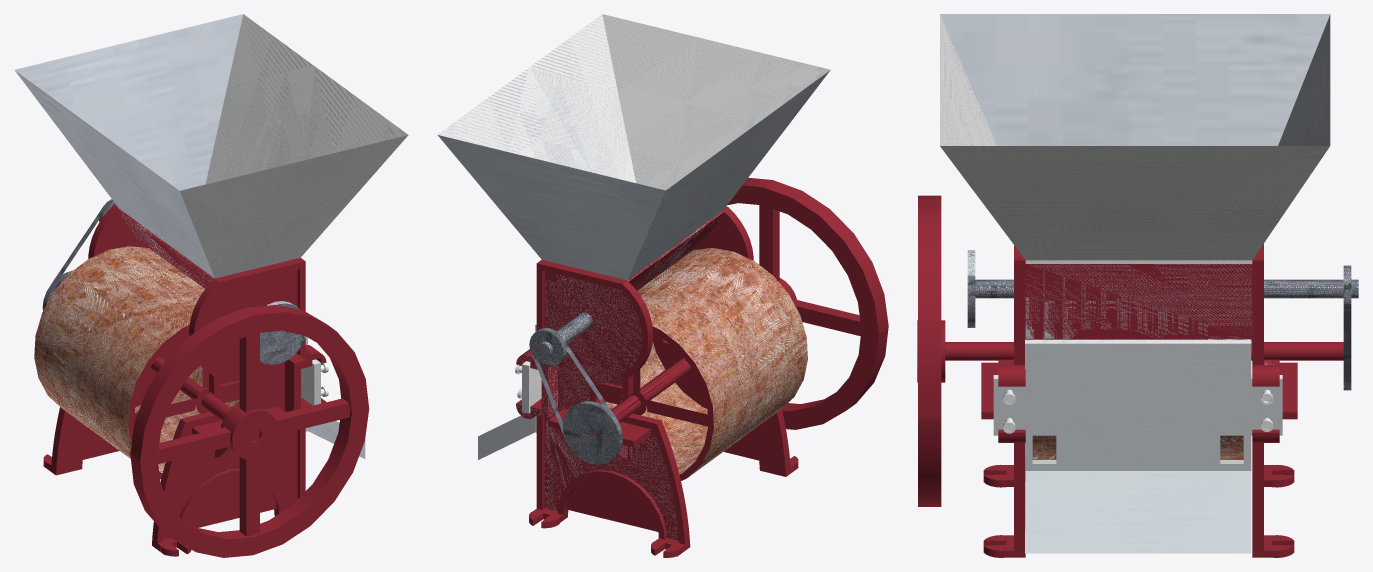
The model's file is Despulpadora Rojo.glb.
The picture shows the model from 3 angles, left to right: view 1: azimuth 30°, elevation 25°; view 2: azimuth 150°, elevation 25°; view 3: azimuth 270°, elevation 25°; orthographic projection. The views are drawn at different scales.
Visible parts, largest first — view 1: SketchUp.029, SketchUp.030, instance_0.002, SketchUp.013, instance_0.005, instance_0.001, SketchUp.028, instance_0.003, SketchUp.007, SketchUp.004, SketchUp.040, SketchUp.027; view 2: SketchUp.029, SketchUp.030, instance_0.002, SketchUp.038, SketchUp.028, instance_0.005, SketchUp.013, instance_0.001, SketchUp.005, instance_0.004, SketchUp.007, SketchUp.041 (+3 smaller); view 3: SketchUp.030, SketchUp.029, SketchUp.044, SketchUp.042, SketchUp.010, instance_0.005, SketchUp.028, SketchUp.013, instance_0.001, SketchUp.003, instance_0.002, SketchUp.045 (+5 smaller).
Part boxes in pixels (x1,y1,x2,y2): SketchUp.029: (180, 14, 408, 278); SketchUp.030: (14, 14, 243, 277); instance_0.002: (34, 246, 239, 472); SketchUp.013: (152, 257, 326, 556); instance_0.005: (130, 305, 369, 557); instance_0.001: (150, 332, 351, 539); SketchUp.028: (43, 204, 185, 475); instance_0.003: (128, 325, 239, 479); SketchUp.007: (117, 209, 214, 288); SketchUp.004: (260, 301, 305, 364); SketchUp.040: (308, 421, 365, 458); SketchUp.027: (301, 359, 320, 405); SketchUp.029: (437, 14, 830, 190); SketchUp.030: (438, 70, 830, 280); instance_0.002: (606, 248, 807, 477); SketchUp.038: (516, 271, 678, 540); SketchUp.028: (516, 259, 690, 557); instance_0.005: (727, 177, 888, 429); SketchUp.013: (656, 206, 798, 476); instance_0.001: (584, 205, 861, 436); SketchUp.005: (562, 401, 622, 464); instance_0.004: (600, 326, 713, 480); SketchUp.007: (627, 210, 724, 290); SketchUp.041: (478, 415, 535, 459); SketchUp.030: (940, 14, 1330, 145); SketchUp.029: (940, 15, 1329, 260); SketchUp.044: (993, 343, 1282, 470); SketchUp.042: (1025, 471, 1251, 553); SketchUp.010: (1025, 264, 1252, 345); instance_0.005: (918, 195, 941, 506); SketchUp.028: (1252, 244, 1294, 557); SketchUp.013: (983, 245, 1025, 557); instance_0.001: (917, 320, 1343, 382); SketchUp.003: (975, 279, 1358, 298); instance_0.002: (1032, 435, 1243, 459); SketchUp.045: (1025, 339, 1251, 343).
Bounding box in the file's own units: 0.485 × 0.64 × 0.5654.
Materials: 19 (14 with a texture image).
